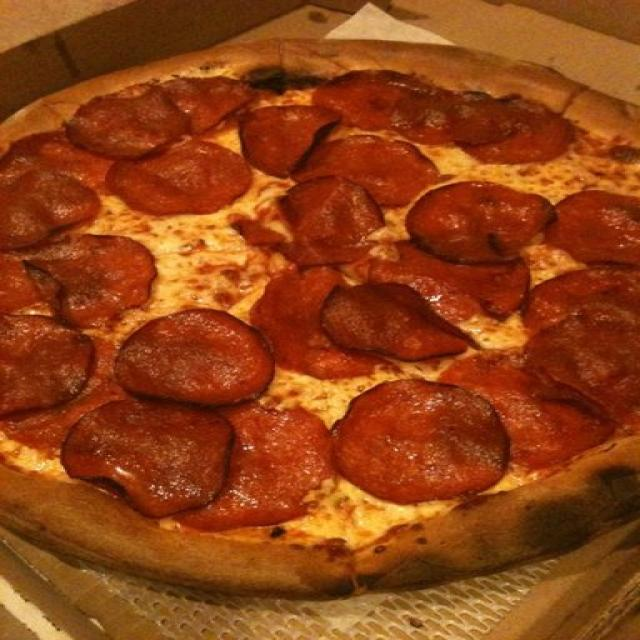Pepperoni: (320, 65, 570, 158), (276, 280, 459, 382), (350, 375, 493, 498), (75, 400, 217, 514), (520, 309, 640, 425), (222, 409, 338, 525), (463, 354, 586, 462), (123, 313, 263, 407), (372, 247, 521, 320), (32, 238, 149, 317), (0, 138, 102, 228), (419, 184, 537, 252), (0, 312, 85, 404), (323, 138, 439, 204), (60, 89, 185, 150), (134, 144, 250, 209), (276, 187, 377, 261), (565, 186, 640, 262), (539, 268, 640, 319), (245, 106, 311, 171)
Pizza: (0, 40, 640, 602)
